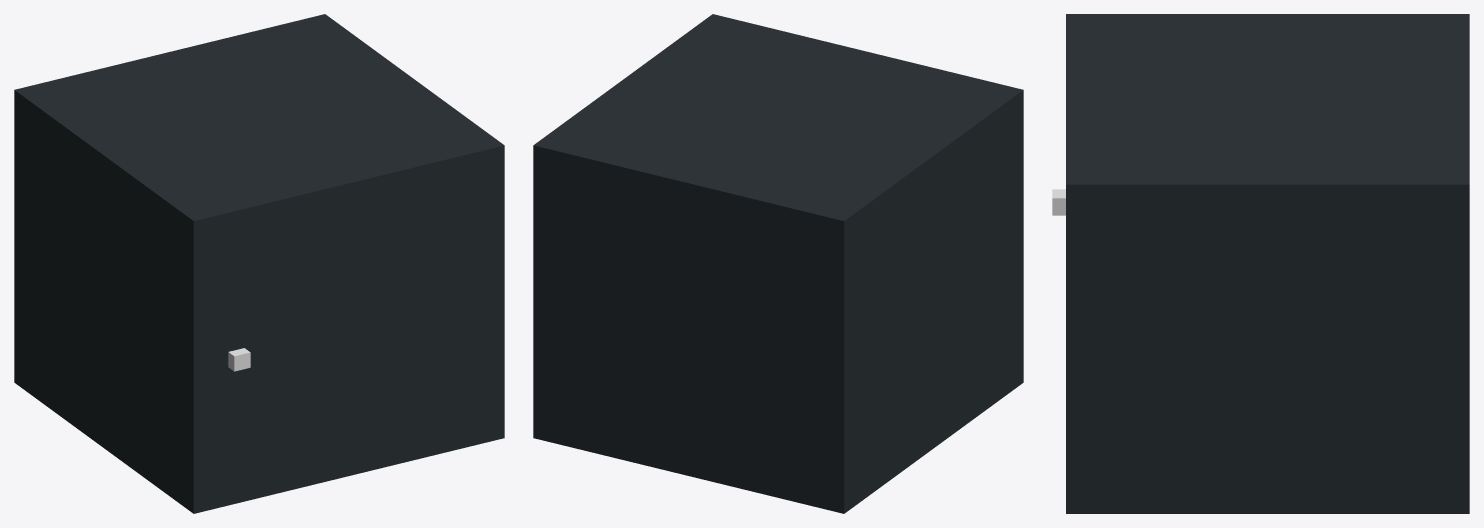
Rendered from nightstand1.fbx.
3 views of the same model, side by side, from view 1: azimuth 30°, elevation 25°; view 2: azimuth 150°, elevation 25°; view 3: azimuth 270°, elevation 25° (orthographic). The views are drawn at different scales.
Visible parts, largest first — view 1: Cube, Cube.001; view 2: Cube; view 3: Cube.
Boxes of the visible parts, left/top/right/bottom form: Cube: left=14, top=14, right=504, bottom=513; Cube.001: left=209, top=164, right=488, bottom=495; Cube: left=533, top=14, right=1023, bottom=513; Cube: left=1066, top=14, right=1469, bottom=513.
Size of the model in its own units: 200 by 180 by 207.
